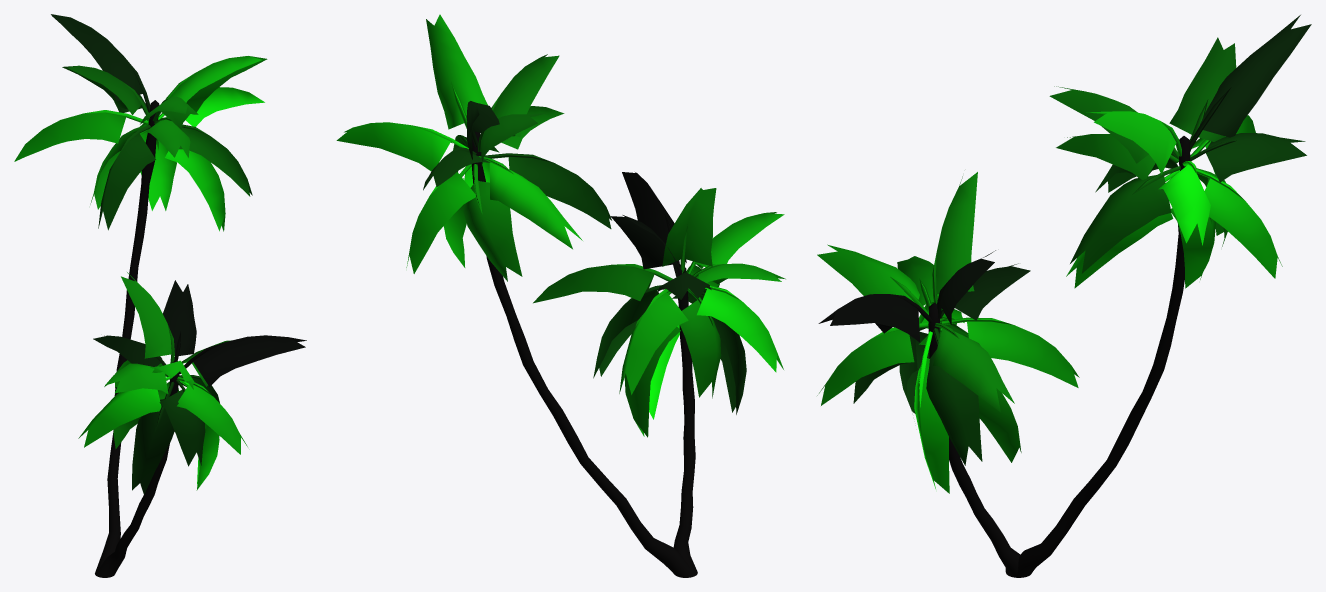
File: M_P10_Tree_15.fbx
3 views of the same model, side by side, from view 1: azimuth 30°, elevation 25°; view 2: azimuth 150°, elevation 25°; view 3: azimuth 270°, elevation 25° (orthographic). The views are drawn at different scales.
Parts seen in each view (by area): view 1: Palm_2_7; view 2: Palm_2_7; view 3: Palm_2_7.
Boxes of the visible parts, <box> form: Palm_2_7: <box>14,14,306,577</box>; Palm_2_7: <box>336,14,785,577</box>; Palm_2_7: <box>817,15,1311,577</box>.
Bounding box in the file's own units: 373 × 594 × 451.
